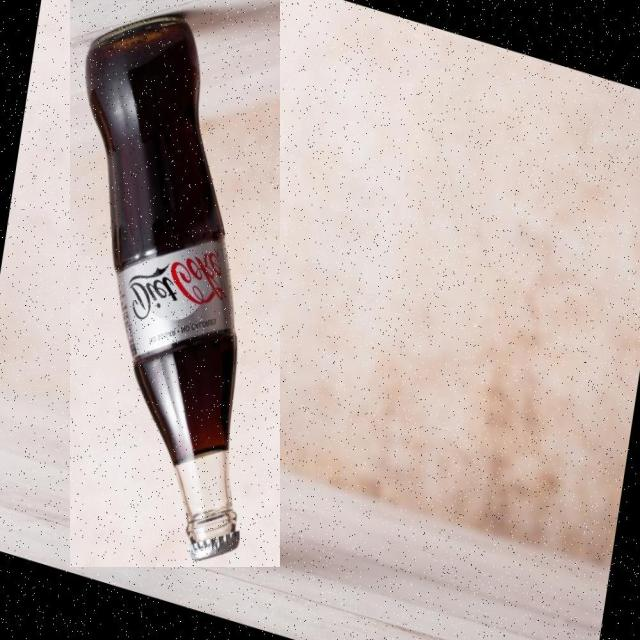coca-cola: (70, 0, 280, 567)
